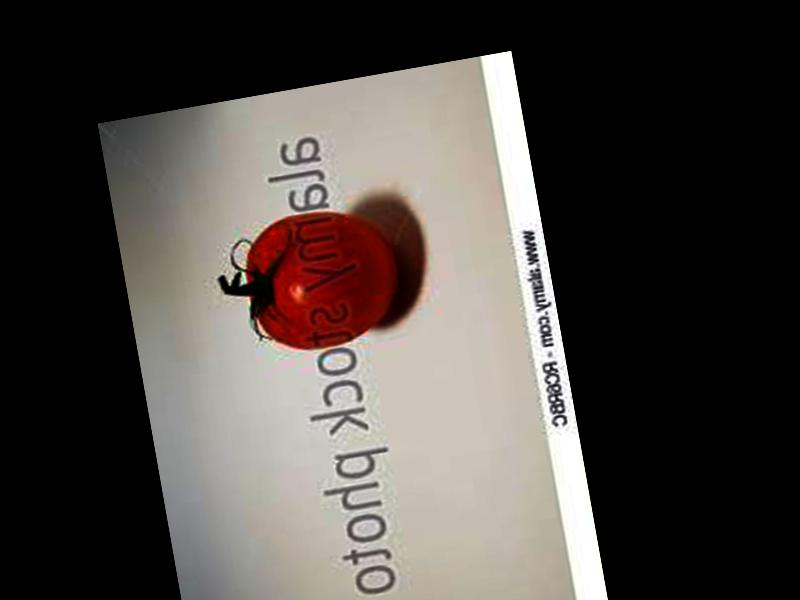Tomato: (235, 199, 407, 360)
